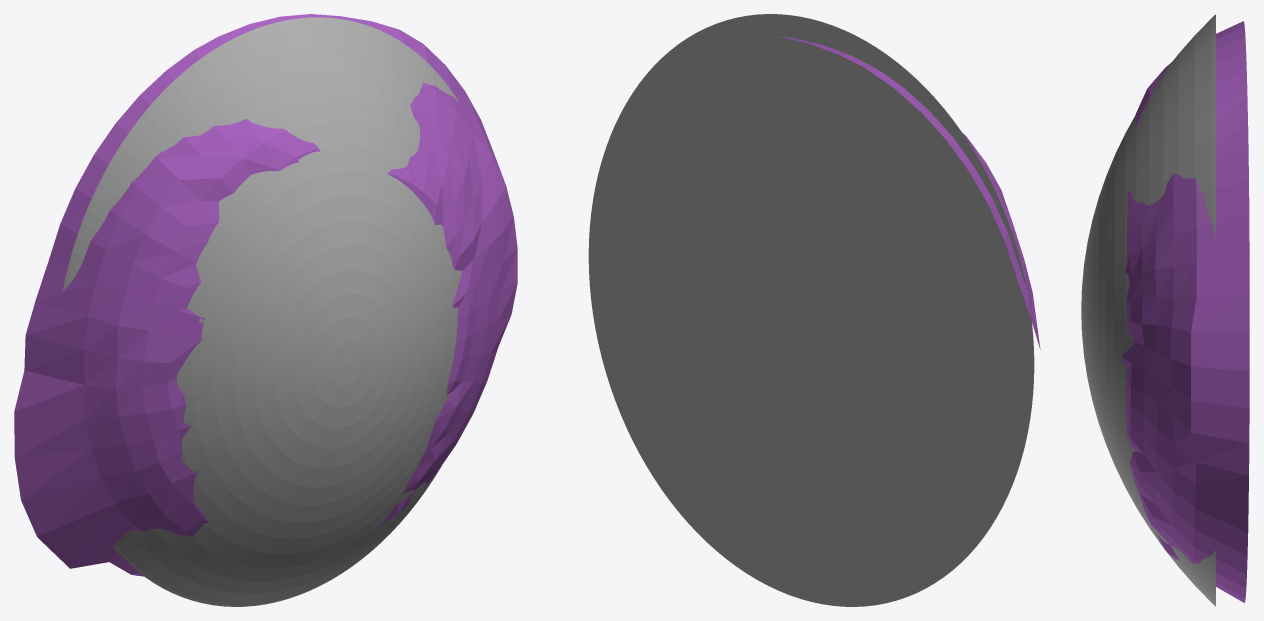
File: G04_A2D_ALIGNED_GT.glb
The picture shows the model from 3 angles, left to right: view 1: azimuth 30°, elevation 25°; view 2: azimuth 150°, elevation 25°; view 3: azimuth 270°, elevation 25°; orthographic projection. The views are drawn at different scales.
Parts seen in each view (by area): view 1: Independent_GT, A2D; view 2: Independent_GT, A2D; view 3: A2D, Independent_GT.
Boxes of the visible parts, x1,y1,x2,y2 form: Independent_GT: [62, 17, 461, 606]; A2D: [14, 14, 517, 576]; Independent_GT: [588, 14, 1034, 606]; A2D: [779, 36, 1040, 349]; A2D: [1121, 21, 1249, 602]; Independent_GT: [1081, 14, 1215, 606].
Bounding box in the file's own units: 0.00584 × 0.0065 × 0.00179.
